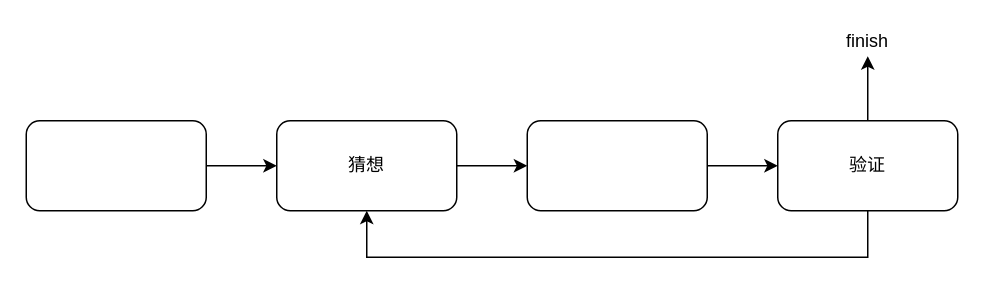
This 984x296 diagram has some shape labels left out. The shapes that lost their labels are listed below. From the top down, each one's centre as x and y in pixels, then its label:
the point at 115,165: 问题
the point at 616,165: 实时
